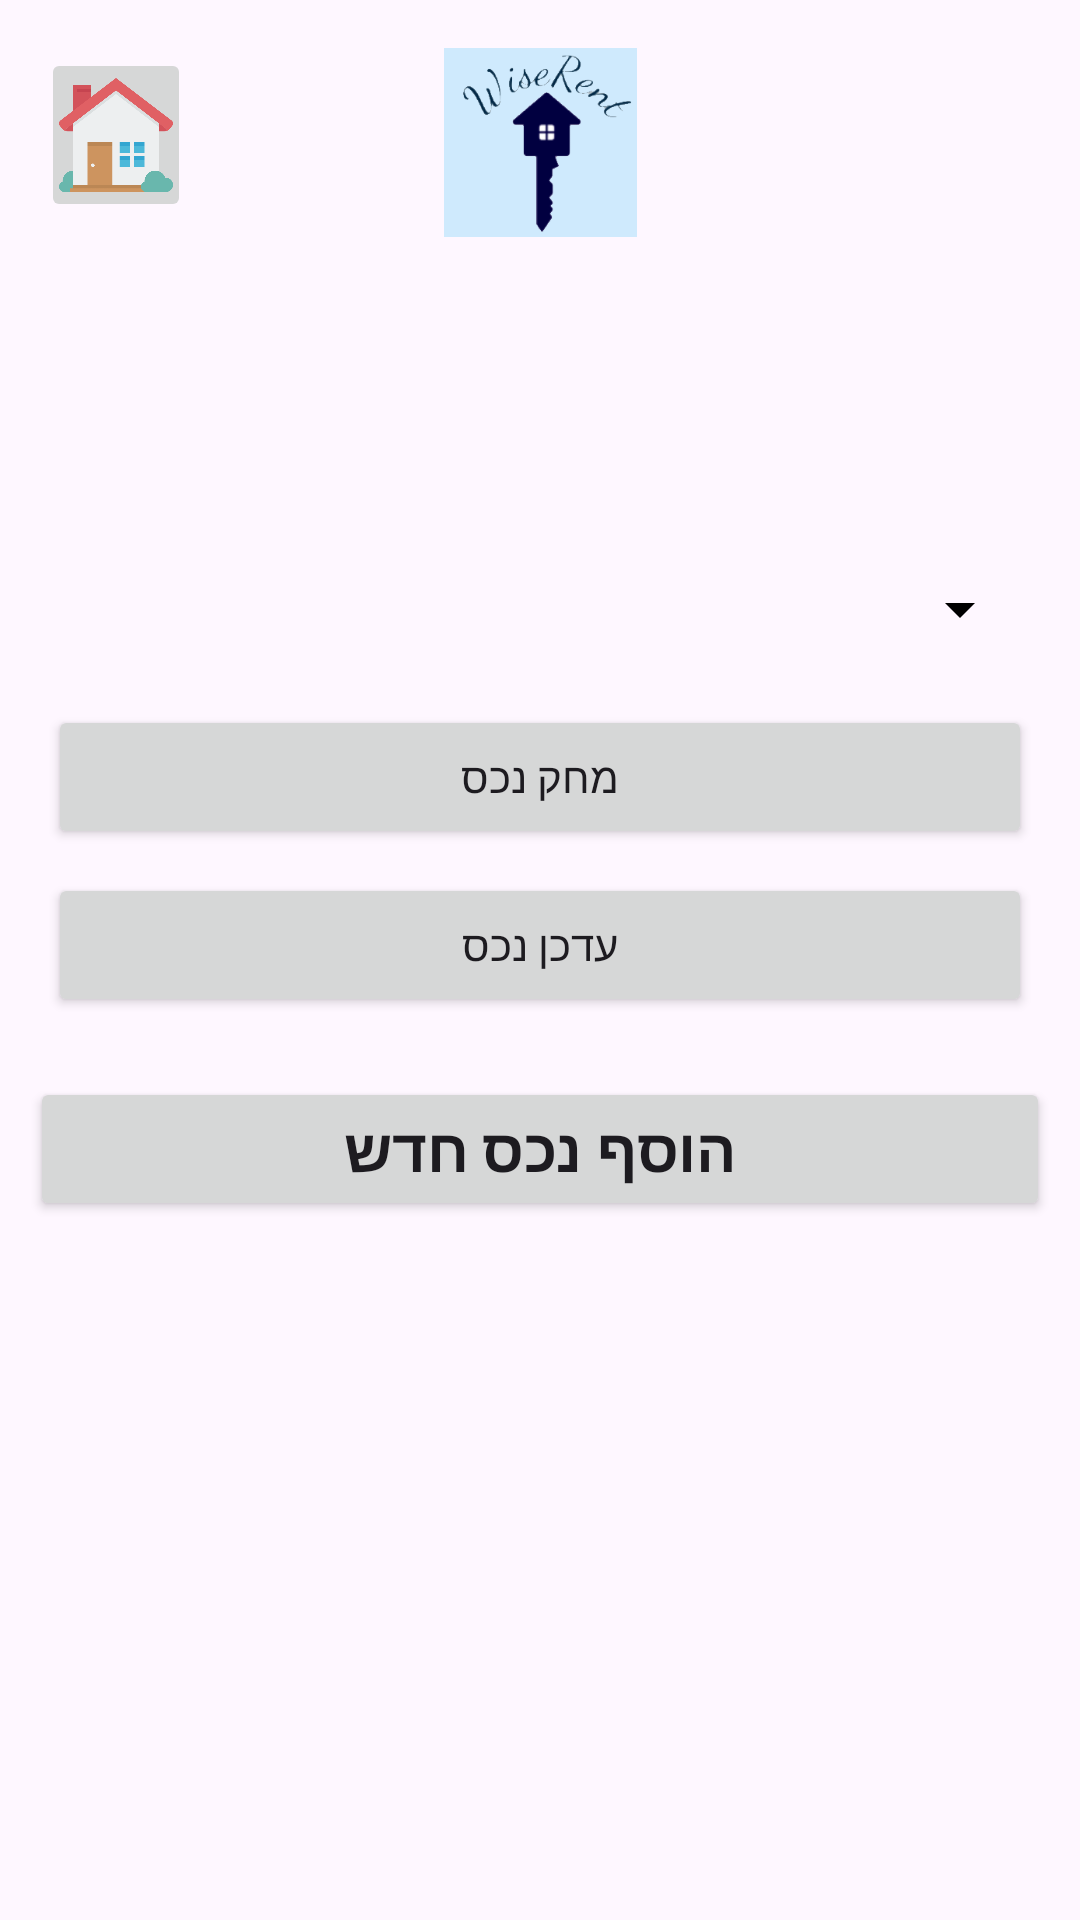

Icon bounding boxes for this 1080 × 1920 phone screenshot, format [left=x1, top=y1, right=x2, bottom=y2]:
Home button for renter homepage: [left=53, top=66, right=179, bottom=204]
